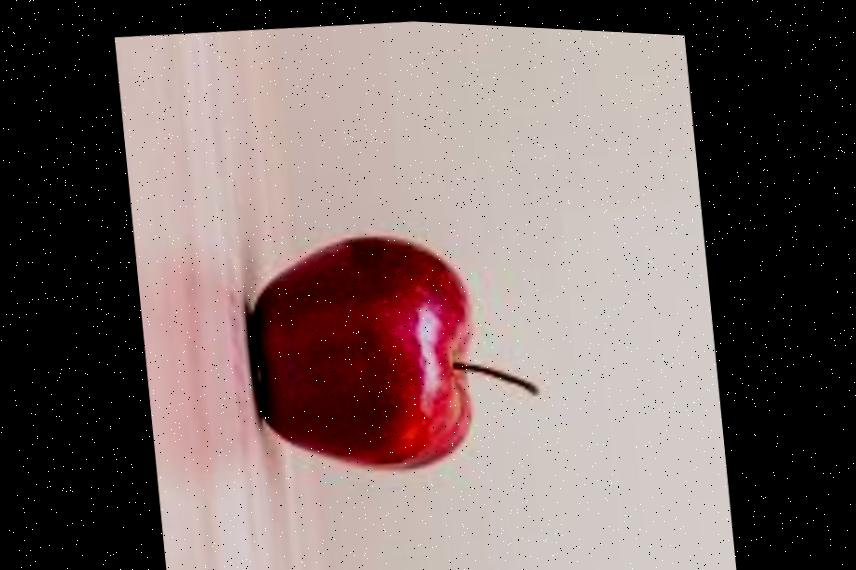HEALTHY: (223, 197, 536, 541)
